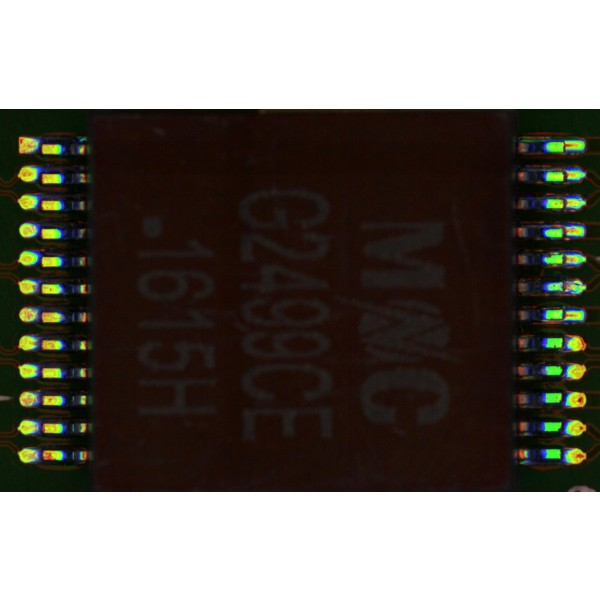Bad_podu: (554, 311, 578, 320), (557, 228, 577, 236), (555, 172, 576, 179), (557, 255, 576, 262), (556, 143, 576, 148), (557, 284, 573, 290)
